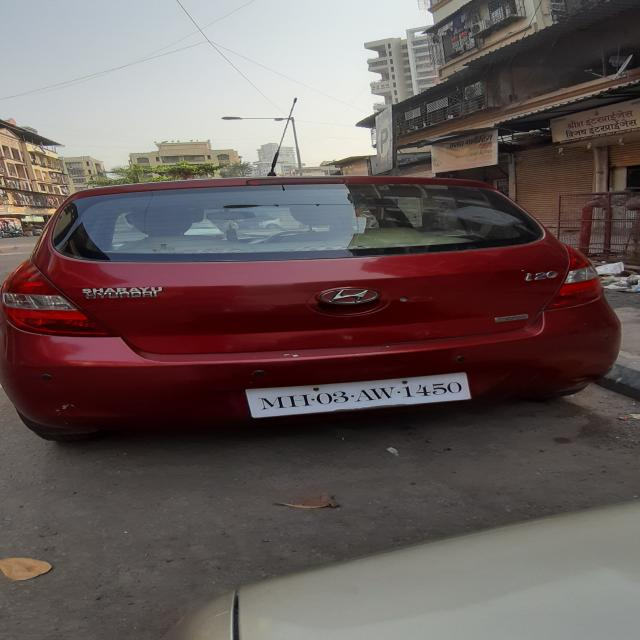Number-Plate: (247, 372, 465, 416)
